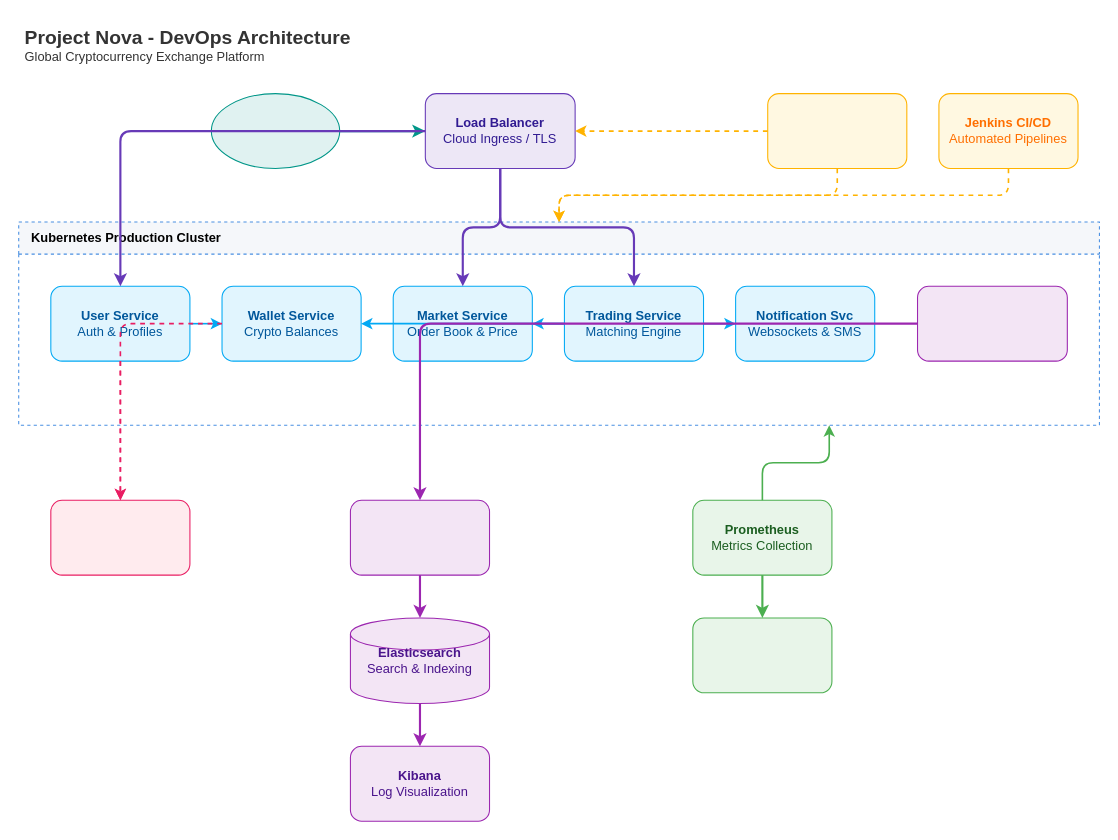
The diagram is 1118 pixels wide and 840 high, and some of its shapes have lost their labels. Here are the shapes that lost their labels. From the top down, the box of each, then its label:
(210, 93, 340, 169): Users / Clients Web & Mobile Apps
(767, 93, 907, 169): Terraform Infrastructure as Code
(916, 285, 1067, 361): Filebeat Log Shipper Daemon
(50, 499, 190, 575): HashiCorp Vault Secrets & Encryption
(349, 499, 490, 575): Logstash Log Processing
(692, 617, 832, 693): Grafana Metrics Dashboards
